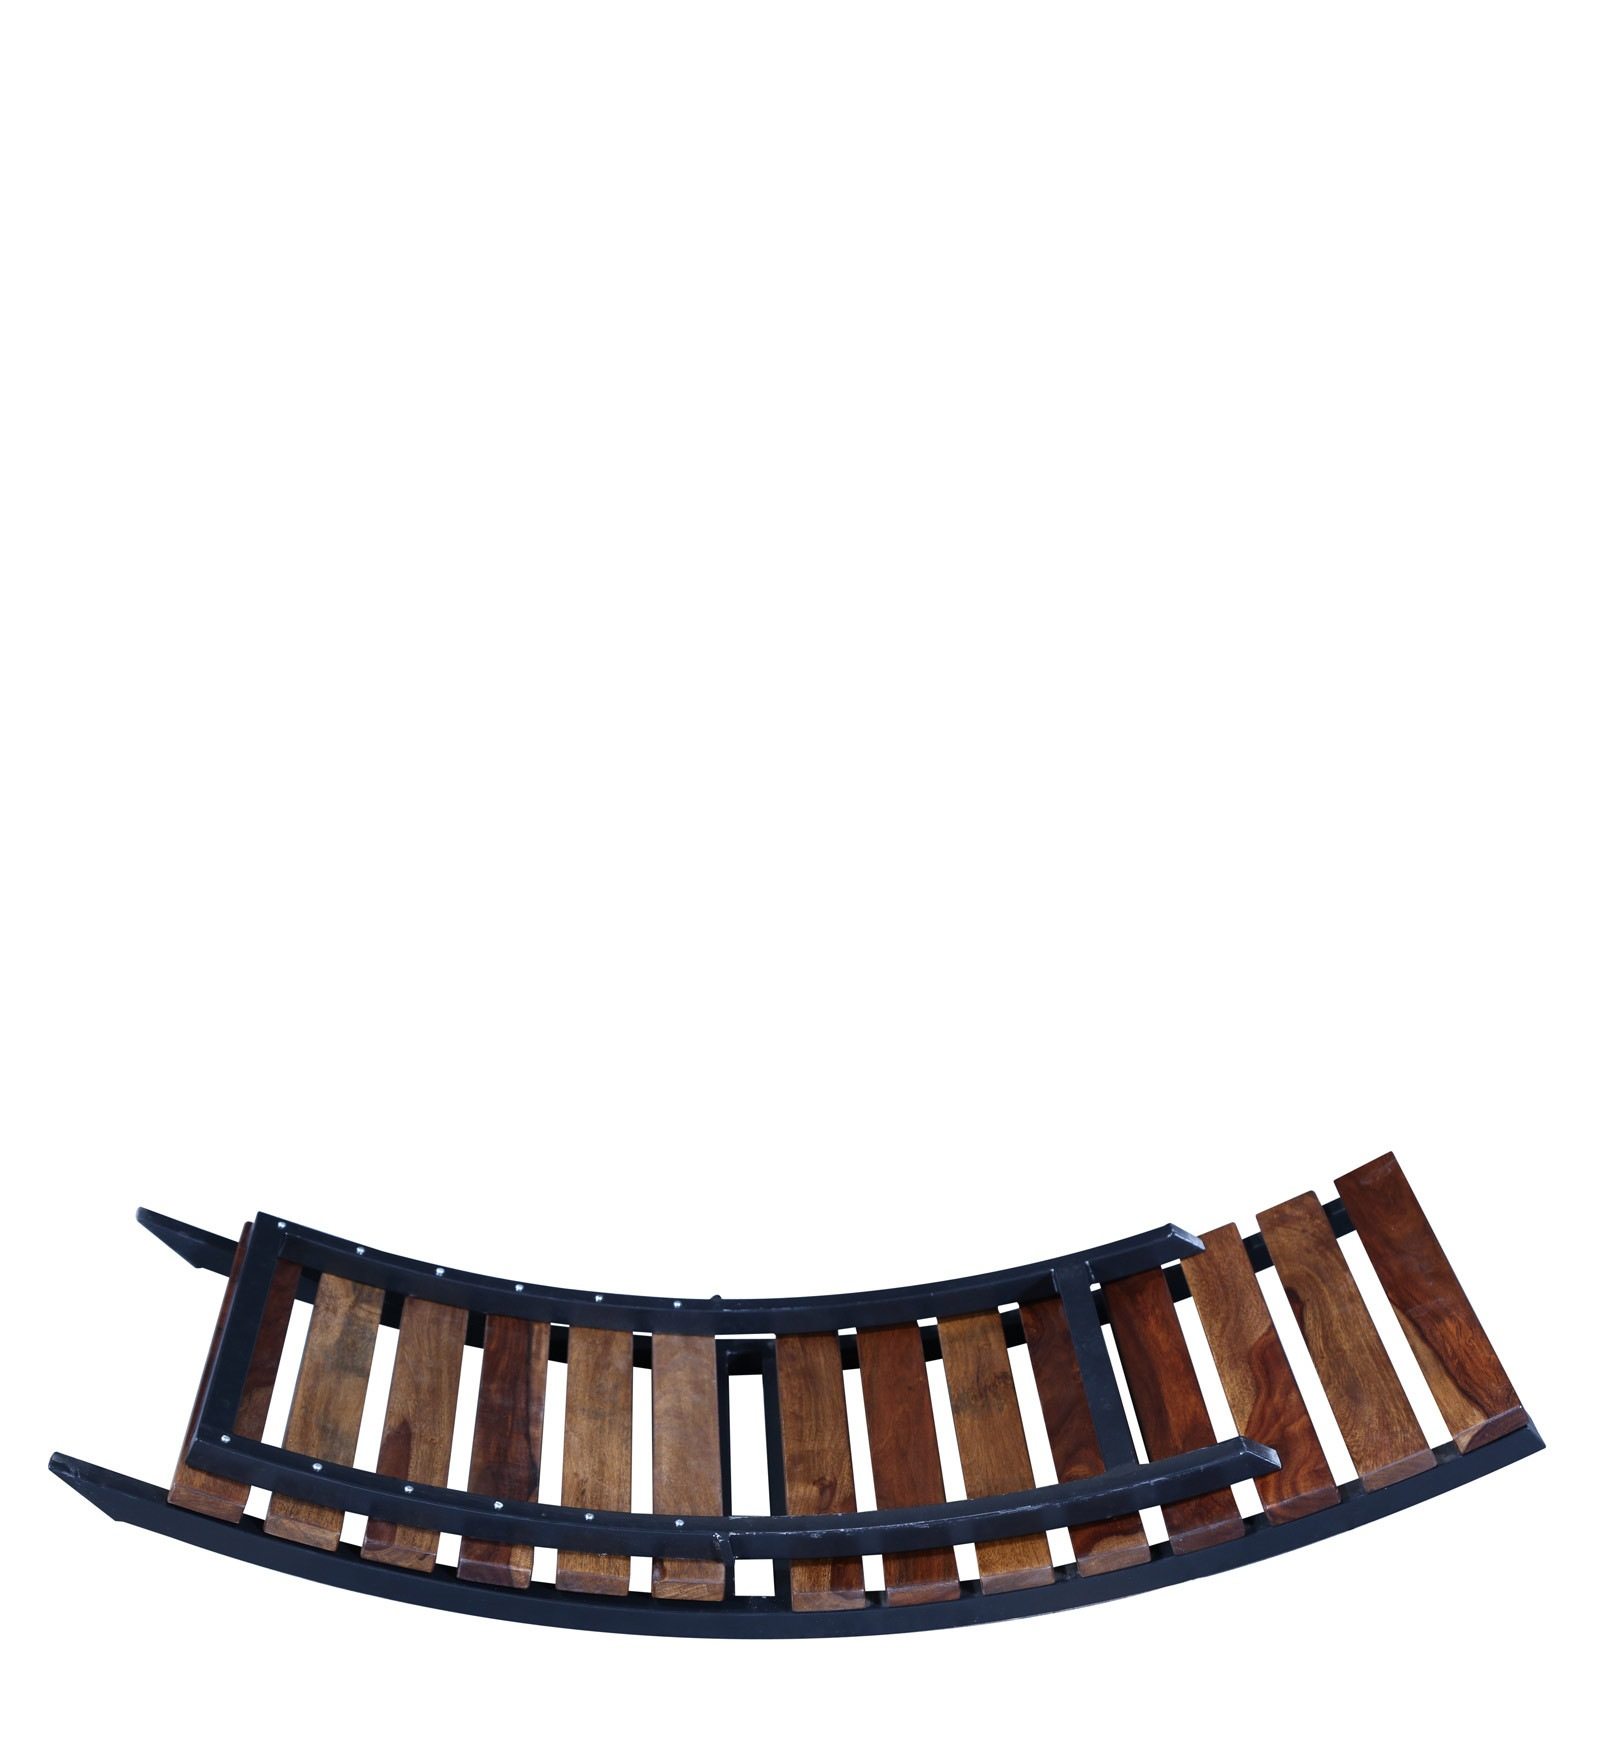Mexico Folding Chair by Bohemiana: (49, 1144, 1552, 1648)
